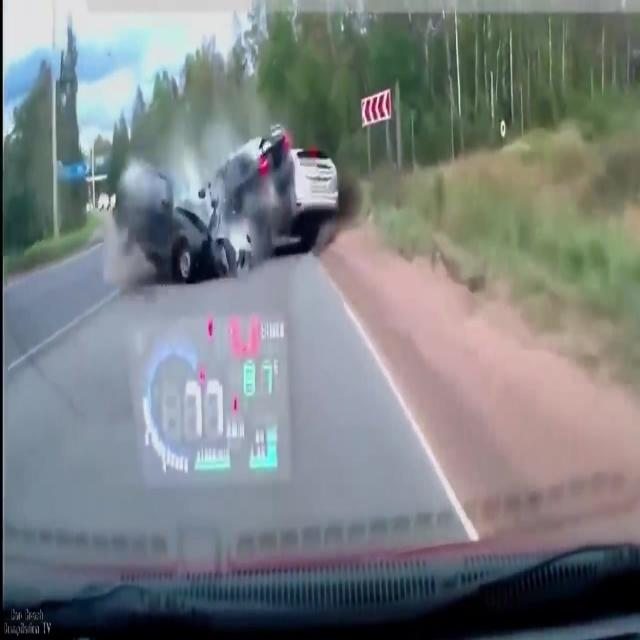accident: (107, 118, 353, 278)
